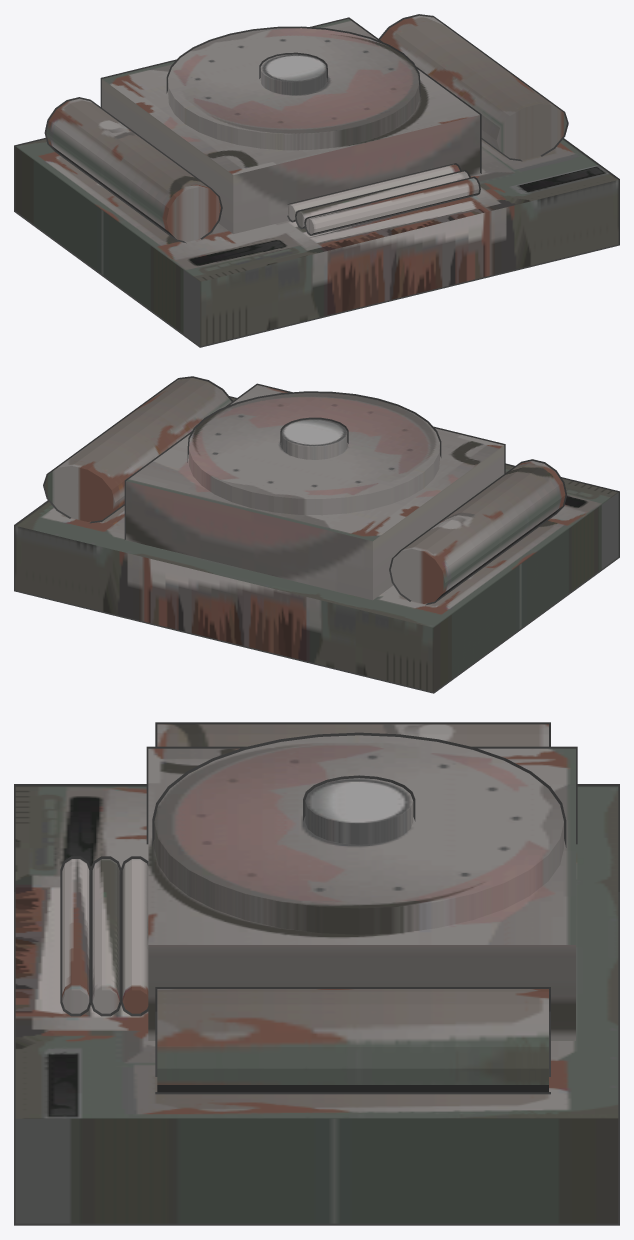
File: Building_AncientLargeMechGestator.glb
The picture shows the model from 3 angles, top to bottom: view 1: azimuth 30°, elevation 25°; view 2: azimuth 150°, elevation 25°; view 3: azimuth 270°, elevation 25°; orthographic projection. The views are drawn at different scales.
Visible parts, largest first — view 1: AncientLargeMechGestator, Outline; view 2: AncientLargeMechGestator, Outline; view 3: AncientLargeMechGestator, Outline.
Part boxes in pixels (x1,y1,x2,y2): AncientLargeMechGestator: (15,15,618,346); Outline: (14,14,619,347); AncientLargeMechGestator: (15,378,618,691); Outline: (14,376,619,693); AncientLargeMechGestator: (15,724,618,1223); Outline: (14,722,619,1225).
Bounding box in the file's own units: 4.1 × 1.44 × 3.14.
2 materials, 1 textured.
